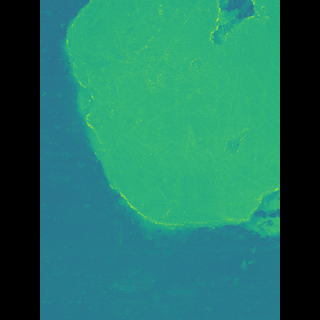Loch: (82, 0, 249, 244)
